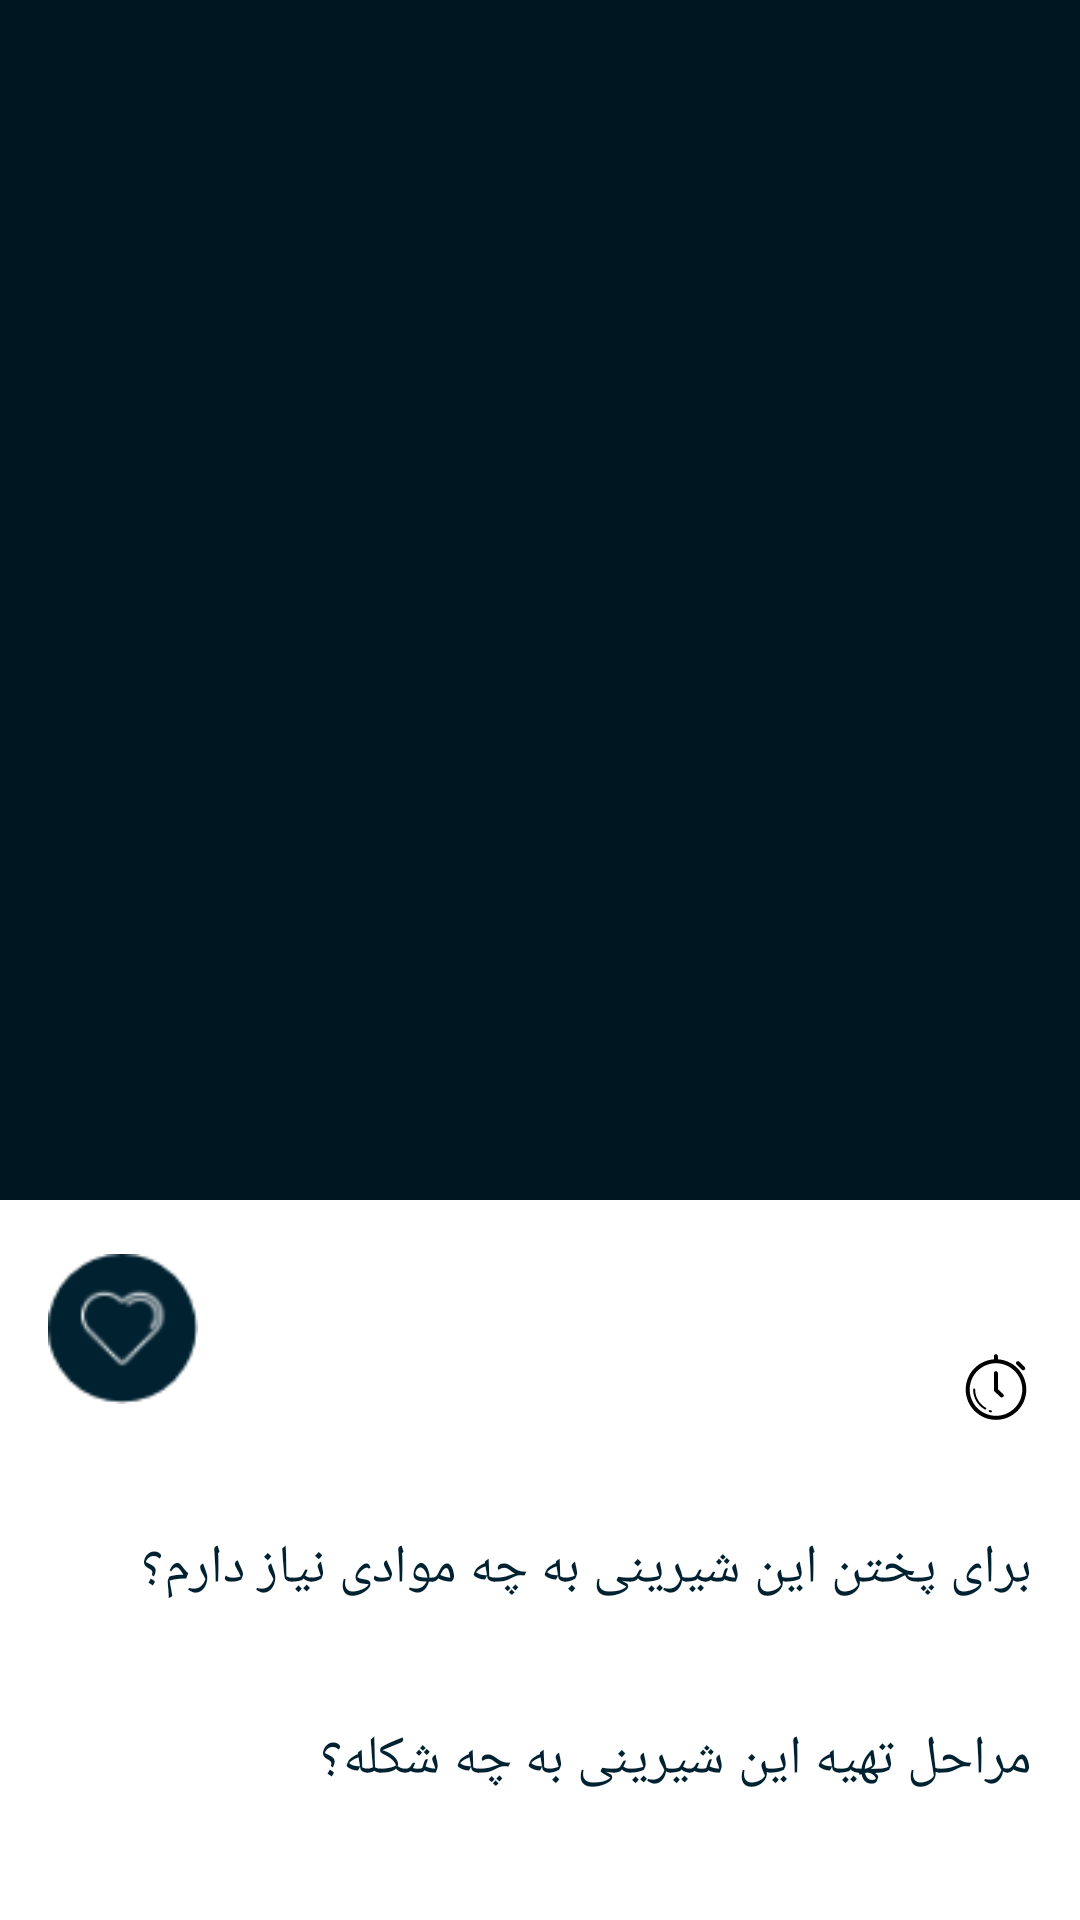

Icon click points for this 1080*1920 phone screenshot, format (x=x, y=y):
timer: (x=996, y=1387)
